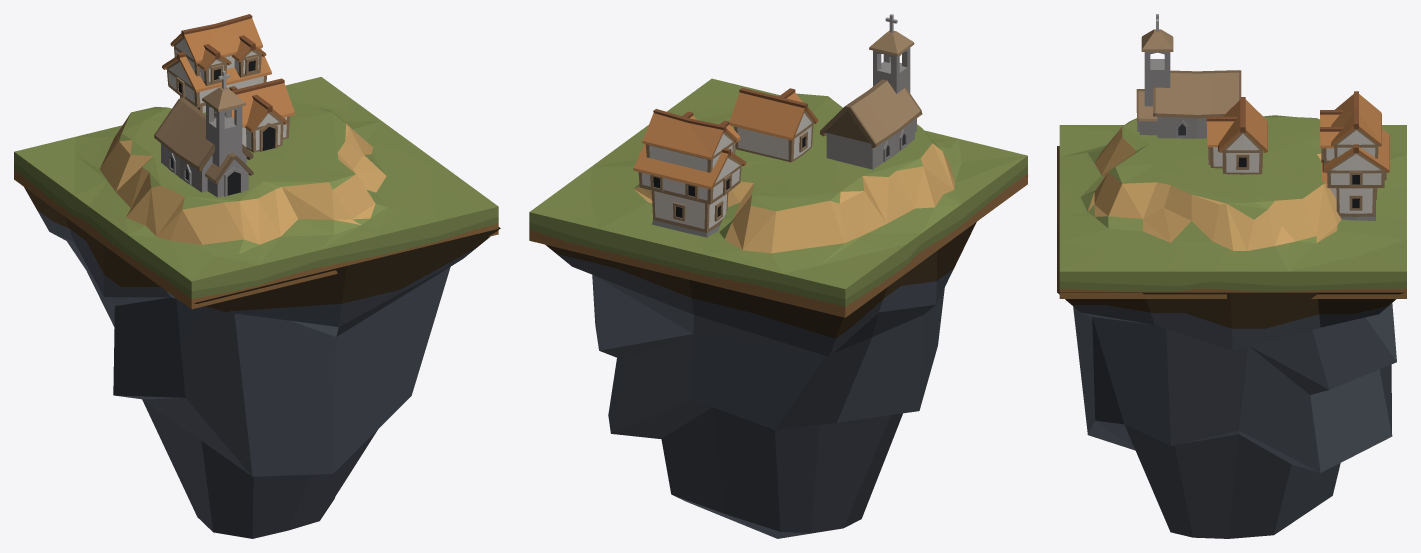
3 views of the same model, side by side, from view 1: azimuth 30°, elevation 25°; view 2: azimuth 150°, elevation 25°; view 3: azimuth 270°, elevation 25° (orthographic). The views are drawn at different scales.
Parts seen in each view (by area): view 1: SM_Tile_Cube_FloatingIsland_01, SM_Tile_Cube_Hill_02_2, SM_Bld_Knights_Church_01, SM_Bld_Knights_House_03, SM_Bld_Knights_House_01; view 2: SM_Tile_Cube_FloatingIsland_01, SM_Tile_Cube_Hill_02_2, SM_Bld_Knights_House_03, SM_Bld_Knights_Church_01, SM_Bld_Knights_House_01; view 3: SM_Tile_Cube_FloatingIsland_01, SM_Tile_Cube_Hill_02_2, SM_Bld_Knights_Church_01, SM_Bld_Knights_House_03, SM_Bld_Knights_House_01.
Part boxes in pixels (x1,y1,x2,y2): SM_Tile_Cube_FloatingIsland_01: (24, 187, 500, 538); SM_Tile_Cube_Hill_02_2: (14, 77, 498, 309); SM_Bld_Knights_Church_01: (154, 71, 253, 197); SM_Bld_Knights_House_03: (162, 14, 271, 112); SM_Bld_Knights_House_01: (214, 78, 294, 152); SM_Tile_Cube_FloatingIsland_01: (545, 222, 976, 538); SM_Tile_Cube_Hill_02_2: (529, 78, 1027, 317); SM_Bld_Knights_House_03: (633, 109, 746, 237); SM_Bld_Knights_Church_01: (820, 14, 922, 169); SM_Bld_Knights_House_01: (729, 88, 818, 162); SM_Tile_Cube_FloatingIsland_01: (1057, 146, 1403, 538); SM_Tile_Cube_Hill_02_2: (1059, 115, 1406, 298); SM_Bld_Knights_Church_01: (1136, 14, 1241, 138); SM_Bld_Knights_House_03: (1320, 91, 1389, 220); SM_Bld_Knights_House_01: (1206, 97, 1267, 174).
Bounding box in the file's own units: 5.01 × 7.76 × 5.04.
5 materials, 5 textured.
